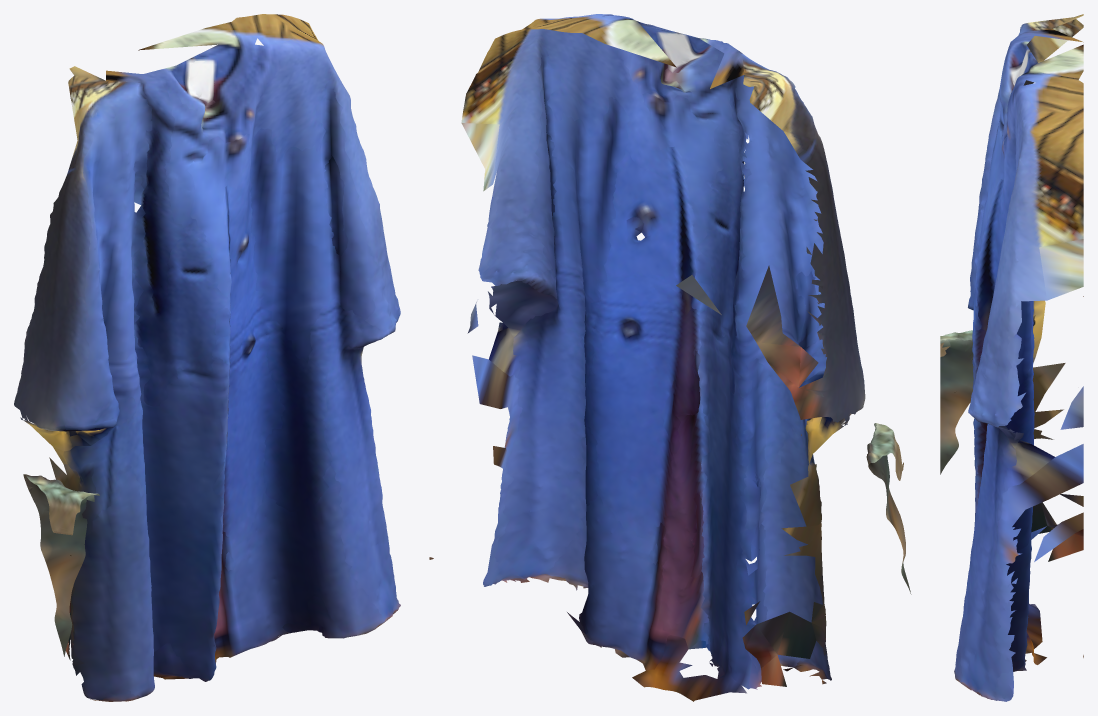
3 renders of one model, left to right at view 1: azimuth 30°, elevation 25°; view 2: azimuth 150°, elevation 25°; view 3: azimuth 270°, elevation 25°, orthographic. The views are drawn at different scales.
Parts seen in each view (by area): view 1: Object_2; view 2: Object_2; view 3: Object_2.
Boxes of the visible parts, left/top/right/bottom form: Object_2: left=14, top=14, right=400, bottom=701; Object_2: left=429, top=14, right=911, bottom=701; Object_2: left=940, top=14, right=1083, bottom=701.
Size of the model in its own units: 0.688 by 1.08 by 0.2321.
Materials: 1 (1 with a texture image).
